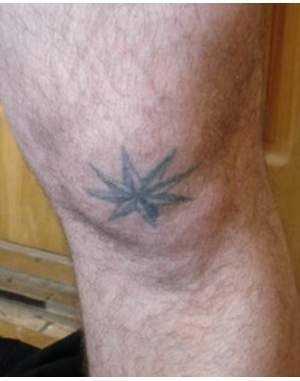tatu4_zvezda: (82, 141, 202, 232)
